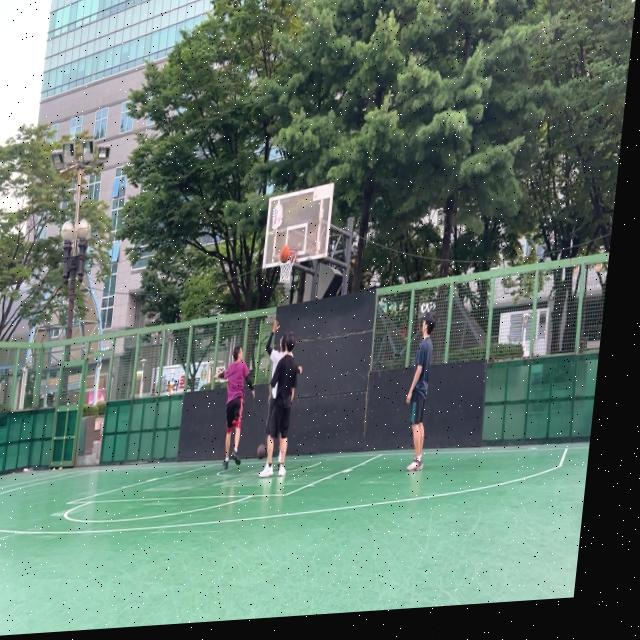basketball: (278, 244, 291, 263), (256, 443, 267, 460)
hoop: (274, 248, 298, 286)
